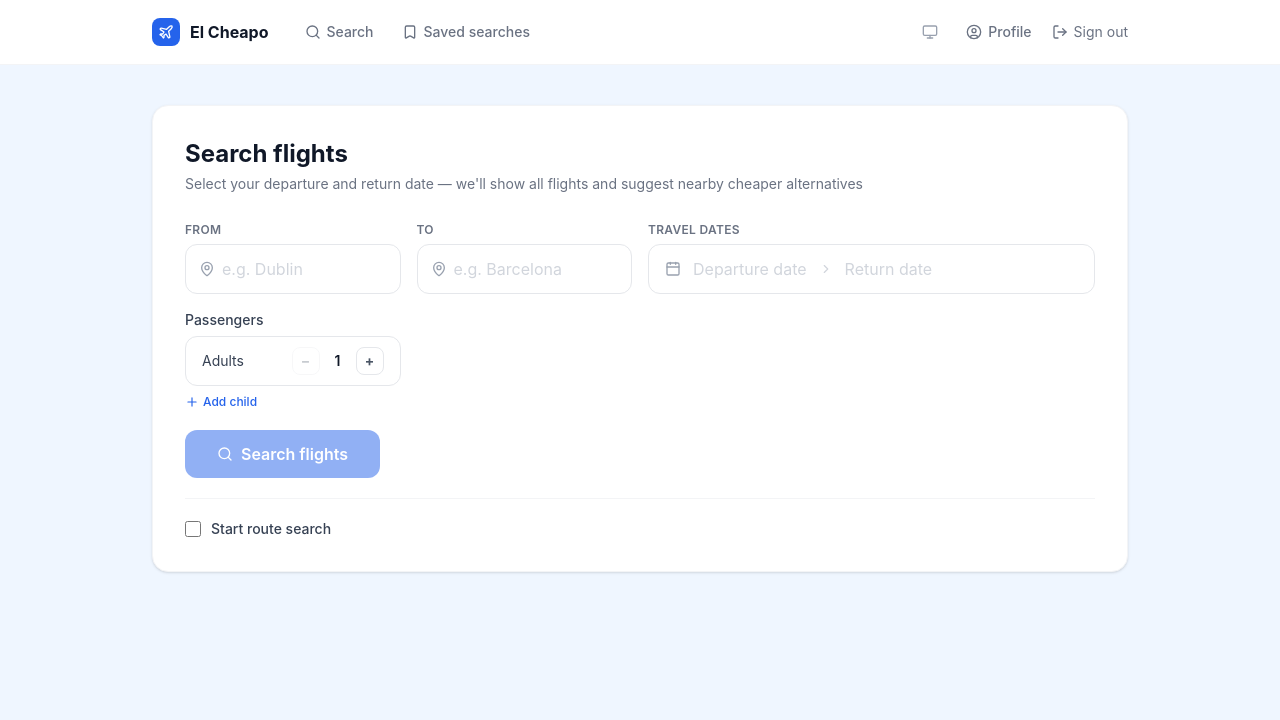
Test: Search — children › adds a child row with default age 5 and a Child badge
Step 1. Click the button "Add child" → (221, 402), box [185,394,257,410]
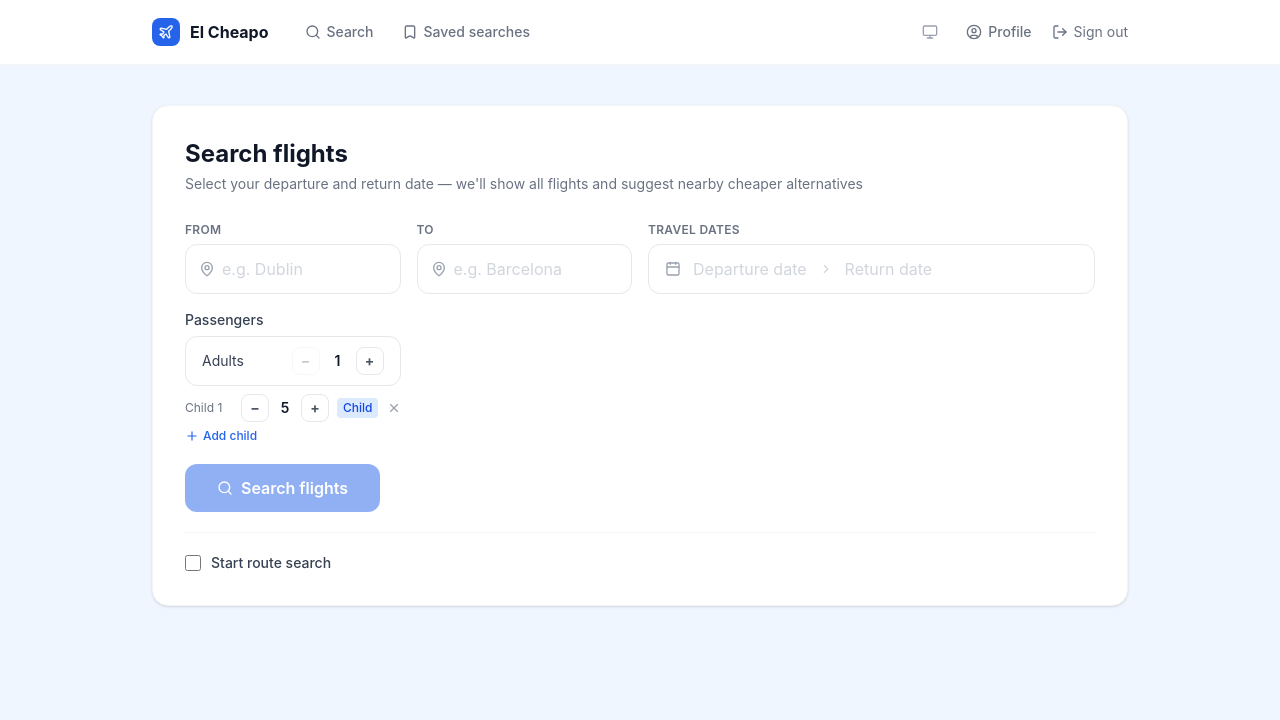
Result: the text "Child 1" is shown at [185,400,222,415]
Result: the text "Child" is shown at [337,398,378,418]
Result: the text "5" is shown at [281,399,289,416]
